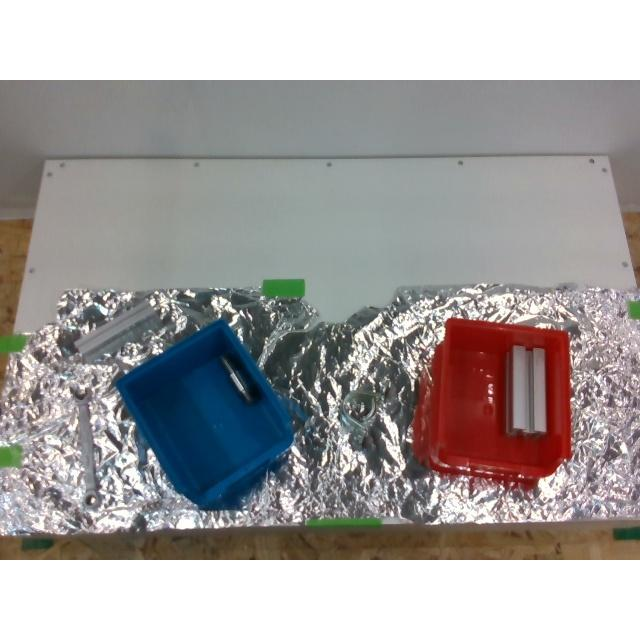Axis2: (220, 356, 254, 404)
F20_20_G: (75, 300, 162, 360)
Housing: (338, 383, 390, 447)
S40_40_G: (505, 346, 547, 434)
Wrench: (70, 388, 98, 504)
container_box_blue: (117, 320, 293, 508)
container_box_red: (426, 318, 570, 474)
